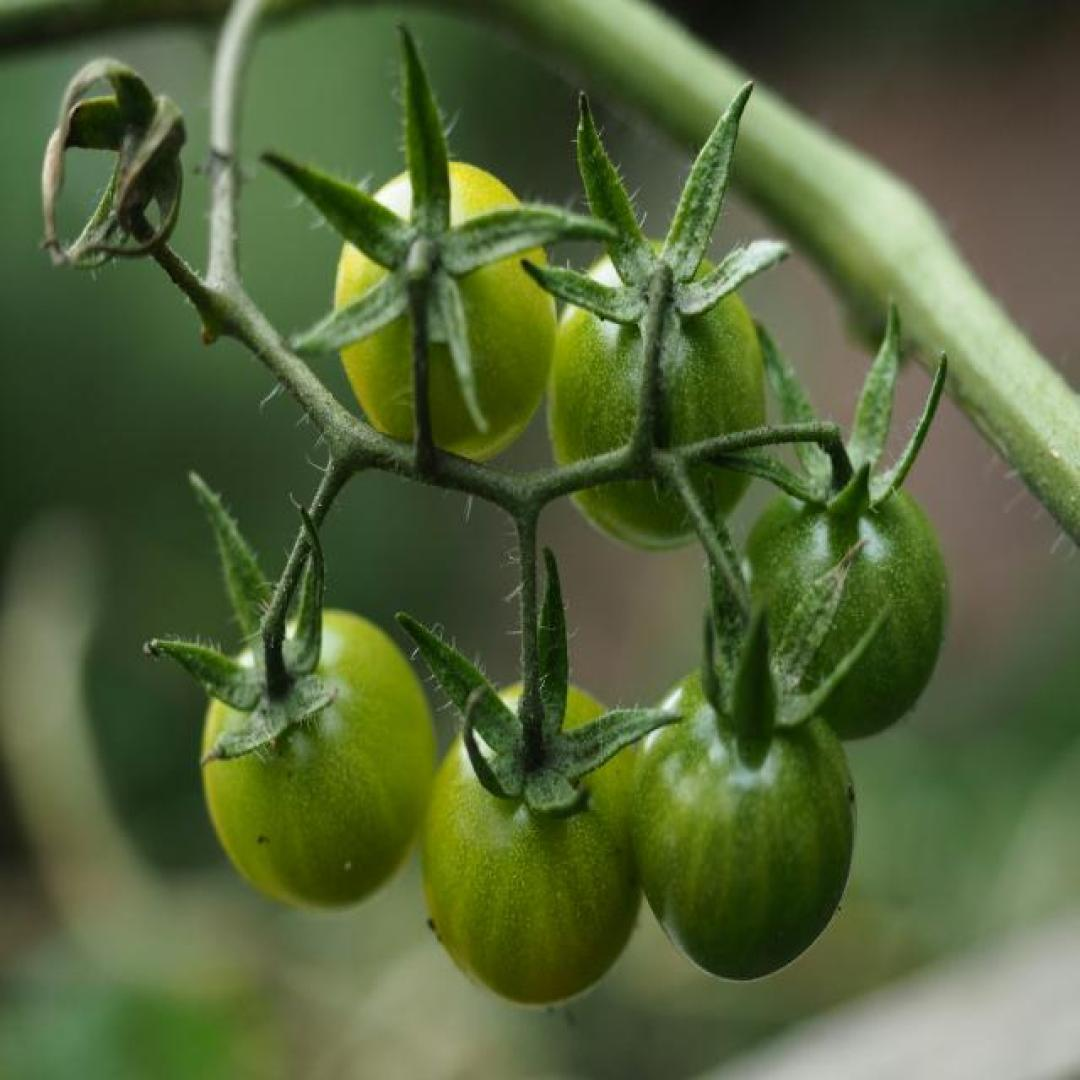mentah: (628, 666, 857, 984), (422, 676, 641, 1008), (202, 606, 440, 911), (334, 164, 555, 470), (550, 240, 766, 550), (738, 468, 950, 748)
